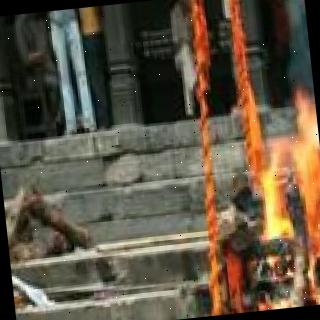fire: (249, 99, 320, 309)
